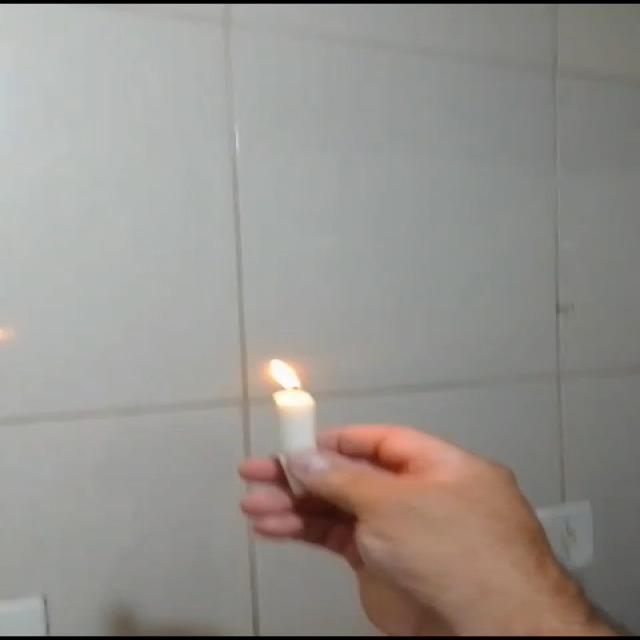fogo-ypXI: (260, 356, 304, 392)
